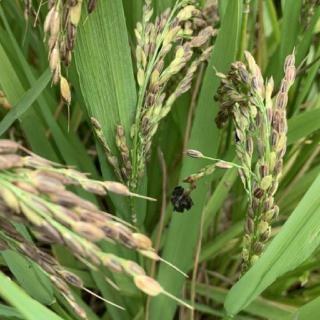Gosong-Palsu: (169, 184, 195, 215)
